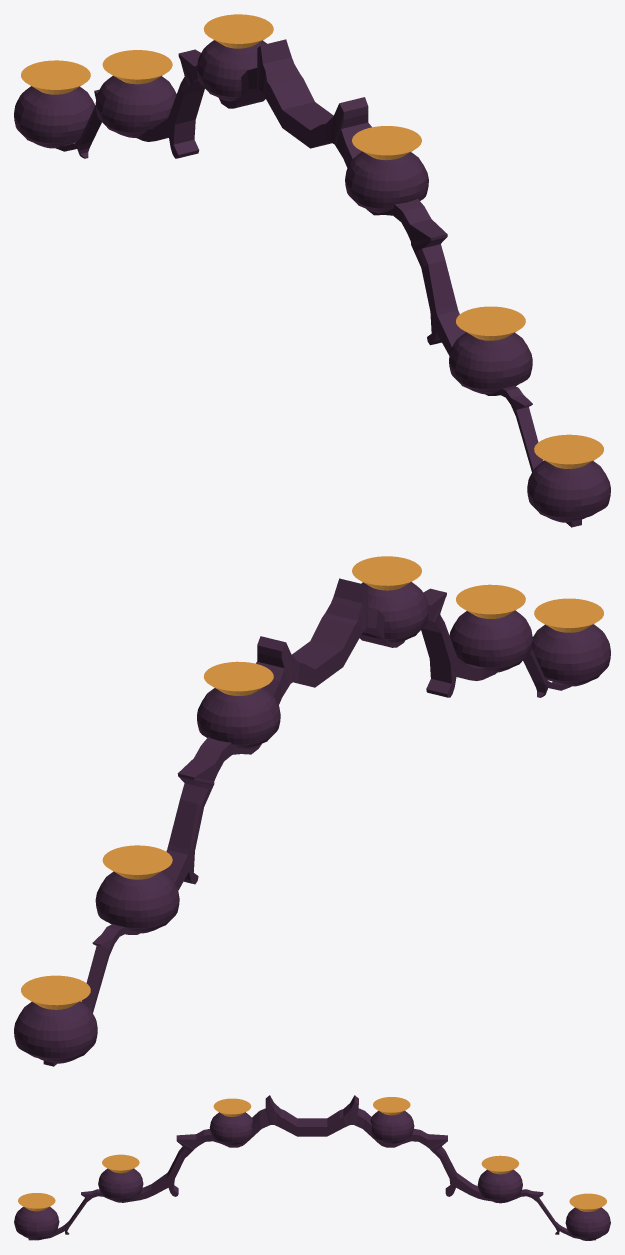
File: CandleHolder_Prot_0.3_6c.fbx
The picture shows the model from 3 angles, top to bottom: view 1: azimuth 30°, elevation 25°; view 2: azimuth 150°, elevation 25°; view 3: azimuth 270°, elevation 25°; orthographic projection. The views are drawn at different scales.
Parts seen in each view (by area): view 1: Cube.003, Sphere.029, Sphere.026, Sphere.027, Sphere.028, Sphere.025, Sphere.023, Base.018, Base.023, Base.020, Base.019, Base.024 (+1 smaller); view 2: Cube.003, Sphere.028, Sphere.025, Sphere.023, Sphere.026, Sphere.029, Sphere.027, Base.022, Base.019, Base.024, Base.023, Base.018 (+1 smaller); view 3: Cube.003, Sphere.025, Sphere.029, Sphere.028, Sphere.026, Sphere.023, Sphere.027, Base.020, Base.022, Base.019, Base.023, Base.024 (+1 smaller).
Part boxes in pixels (x1=…): Cube.003: x1=56, y1=39, x2=581, y2=527; Sphere.029: x1=527, y1=460, x2=610, y2=522; Sphere.026: x1=449, y1=332, x2=532, y2=394; Sphere.027: x1=345, y1=151, x2=428, y2=213; Sphere.028: x1=14, y1=86, x2=95, y2=148; Sphere.025: x1=95, y1=76, x2=176, y2=137; Sphere.023: x1=197, y1=40, x2=266, y2=101; Base.018: x1=203, y1=14, x2=273, y2=48; Base.023: x1=21, y1=60, x2=90, y2=94; Base.020: x1=456, y1=306, x2=525, y2=340; Base.019: x1=102, y1=50, x2=172, y2=84; Base.024: x1=534, y1=434, x2=603, y2=468; Cube.003: x1=43, y1=578, x2=571, y2=1066; Sphere.028: x1=14, y1=1001, x2=97, y2=1063; Sphere.025: x1=95, y1=871, x2=179, y2=933; Sphere.023: x1=197, y1=687, x2=280, y2=748; Sphere.026: x1=449, y1=610, x2=532, y2=672; Sphere.029: x1=531, y1=624, x2=610, y2=686; Sphere.027: x1=361, y1=582, x2=428, y2=643; Base.022: x1=352, y1=556, x2=421, y2=590; Base.019: x1=102, y1=845, x2=172, y2=879; Base.024: x1=534, y1=598, x2=603, y2=632; Base.023: x1=21, y1=975, x2=90, y2=1009; Base.018: x1=203, y1=661, x2=273, y2=695; Cube.003: x1=28, y1=1095, x2=595, y2=1240; Sphere.025: x1=477, y1=1169, x2=522, y2=1203; Sphere.029: x1=14, y1=1207, x2=59, y2=1240; Sphere.028: x1=565, y1=1207, x2=610, y2=1240; Sphere.026: x1=98, y1=1168, x2=143, y2=1201; Sphere.023: x1=370, y1=1111, x2=414, y2=1144; Sphere.027: x1=209, y1=1112, x2=252, y2=1145; Base.020: x1=102, y1=1154, x2=139, y2=1173; Base.022: x1=213, y1=1098, x2=251, y2=1116; Base.019: x1=481, y1=1155, x2=519, y2=1174; Base.023: x1=569, y1=1193, x2=606, y2=1211; Base.024: x1=18, y1=1193, x2=55, y2=1211.
Size of the model in its own units: 41.48 by 144 by 553.
